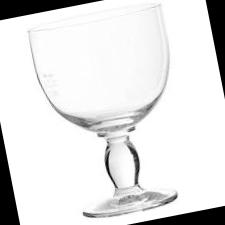glass: (14, 0, 207, 225)
